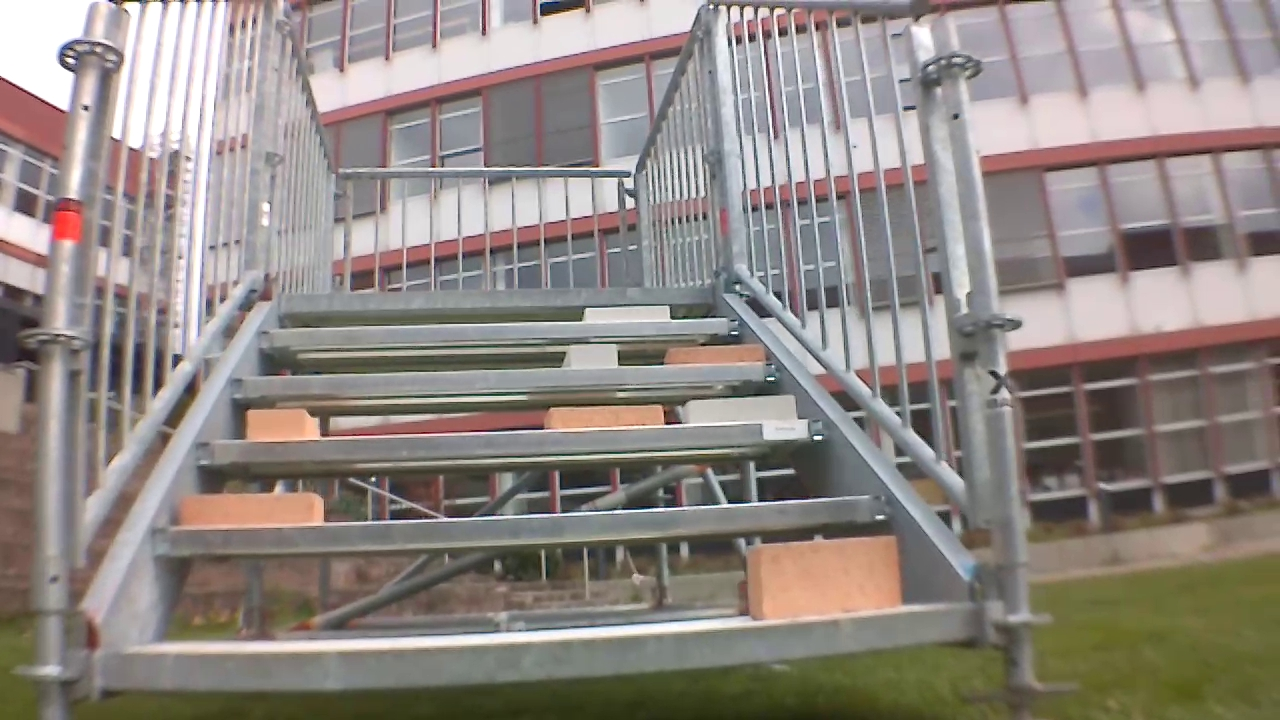brick: (747, 535, 905, 626), (174, 492, 332, 529), (685, 396, 795, 430), (539, 403, 667, 430), (657, 339, 766, 369), (244, 411, 317, 440), (560, 343, 613, 369), (580, 307, 676, 321)
edge: (107, 604, 994, 708), (153, 482, 896, 563), (195, 413, 826, 469), (227, 351, 783, 402), (260, 314, 737, 350), (281, 282, 720, 312)
stairs: (41, 13, 982, 720)
steps: (87, 282, 966, 702)
